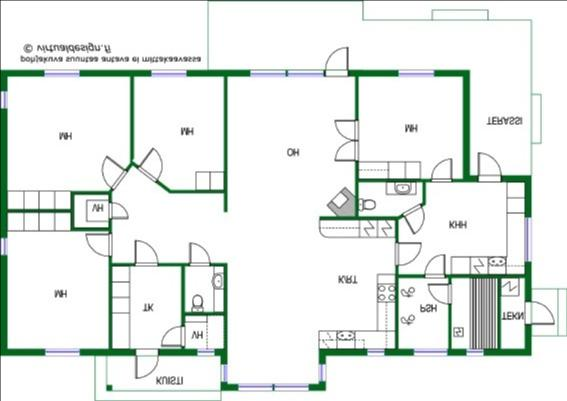door: (98, 154, 128, 190), (136, 147, 166, 183), (323, 44, 352, 80), (132, 345, 160, 381), (522, 298, 555, 327), (132, 238, 160, 270), (476, 150, 504, 182), (402, 201, 428, 235), (84, 231, 114, 260), (392, 239, 422, 266), (334, 116, 362, 144), (186, 239, 213, 267), (158, 324, 188, 349), (422, 252, 448, 280), (426, 282, 452, 308), (429, 156, 454, 182), (334, 138, 360, 162), (106, 200, 130, 222)
window: (39, 346, 85, 360), (38, 67, 86, 80), (390, 66, 440, 78), (144, 66, 192, 78), (286, 67, 326, 80), (522, 214, 532, 265), (246, 68, 288, 80), (232, 380, 276, 391), (408, 346, 450, 357), (272, 381, 312, 392), (192, 345, 219, 358), (362, 345, 386, 358), (316, 360, 328, 384), (462, 346, 486, 357), (0, 234, 10, 260), (218, 360, 228, 386), (0, 84, 8, 111)
